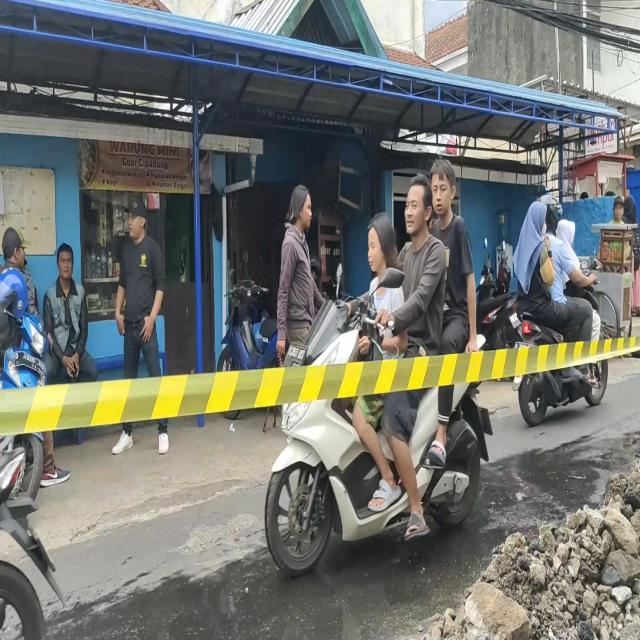helmet: (544, 193, 558, 230)
no-helmet: (404, 183, 430, 231), (368, 221, 393, 268), (434, 163, 453, 216), (526, 200, 542, 240), (560, 222, 576, 253)
